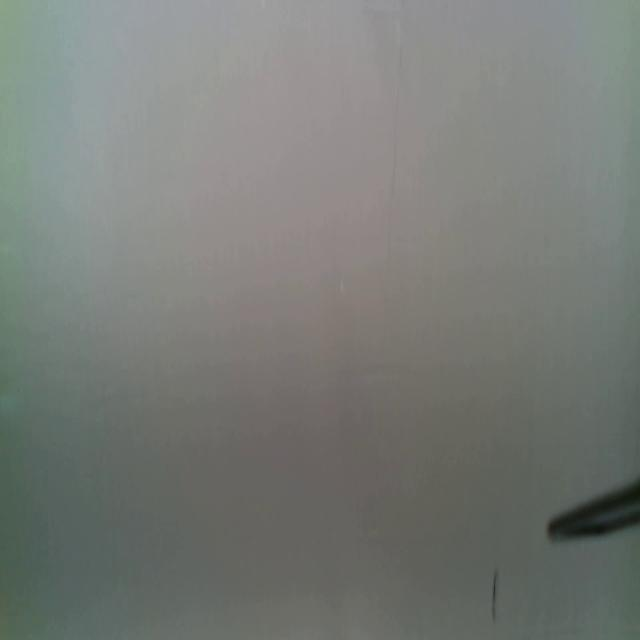crease: (386, 19, 405, 299)
hole: (490, 565, 500, 630)
